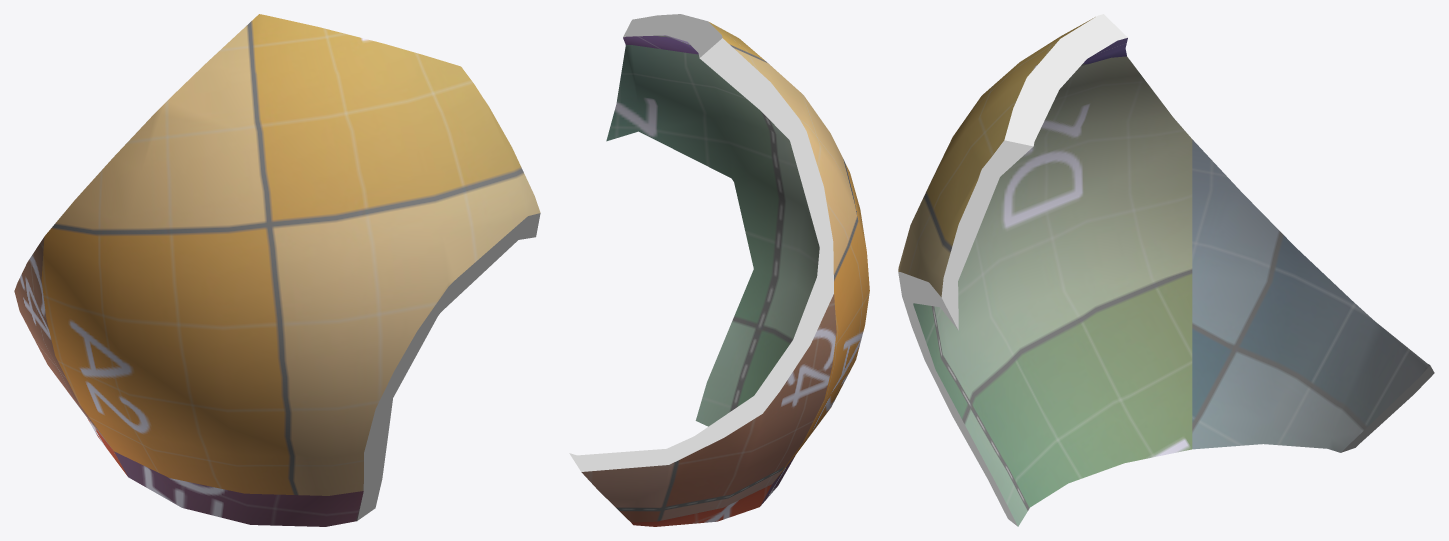
File: LargeVase_SHAT_cell_002.fbx
3 renders of one model, left to right at view 1: azimuth 30°, elevation 25°; view 2: azimuth 150°, elevation 25°; view 3: azimuth 270°, elevation 25°, orthographic. The views are drawn at different scales.
Parts seen in each view (by area): view 1: LargeVase_SHAT_cell_002; view 2: LargeVase_SHAT_cell_002; view 3: LargeVase_SHAT_cell_002.
Part boxes in pixels (x1,y1,x2,y2): LargeVase_SHAT_cell_002: (14, 14, 540, 526); LargeVase_SHAT_cell_002: (569, 14, 869, 526); LargeVase_SHAT_cell_002: (898, 14, 1434, 526).
Size of the model in its own units: 1.23 by 1.51 by 1.53.
2 materials, 1 textured.
